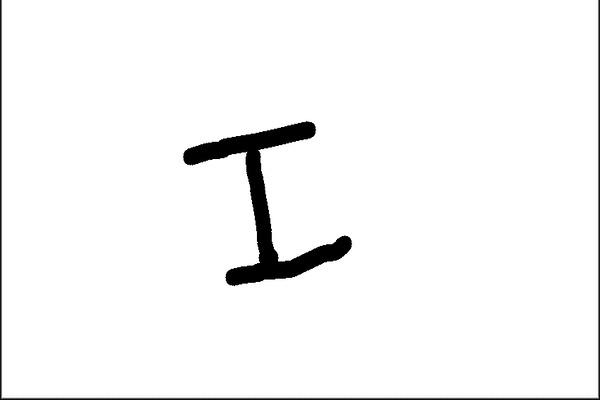i: (178, 118, 357, 287)
